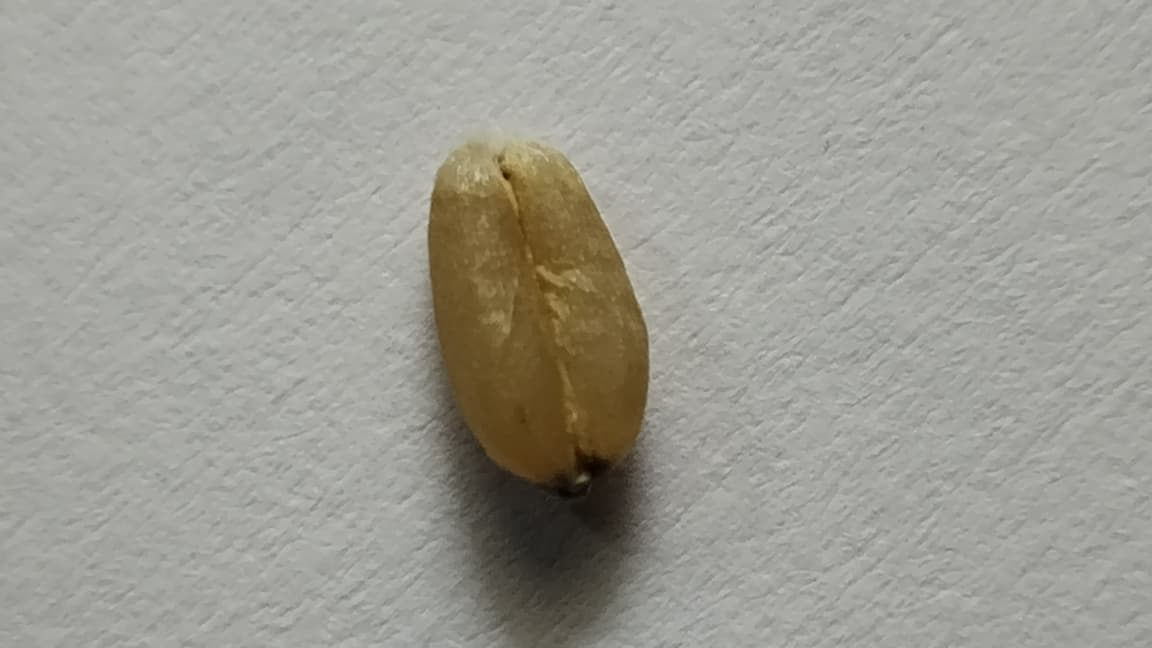healthy: (428, 137, 649, 497)
